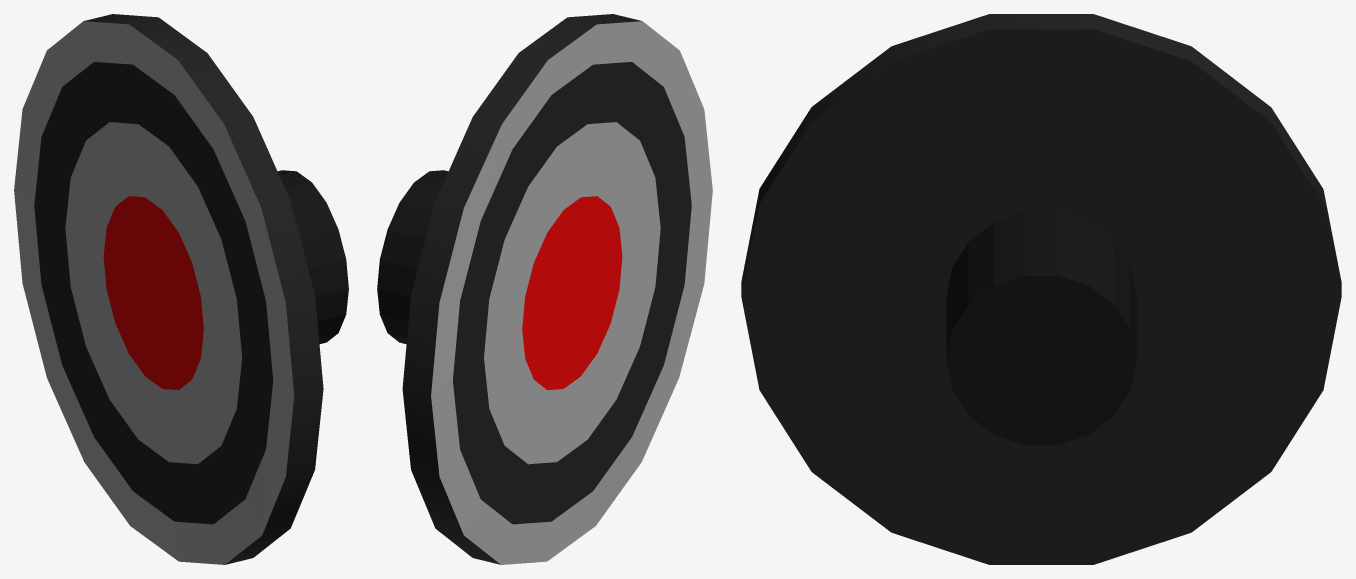
File: maalitaulu.fbx
The picture shows the model from 3 angles, left to right: view 1: azimuth 30°, elevation 25°; view 2: azimuth 150°, elevation 25°; view 3: azimuth 270°, elevation 25°; orthographic projection. The views are drawn at different scales.
Parts seen in each view (by area): view 1: Maalitaulu; view 2: Maalitaulu; view 3: Maalitaulu.
Boxes of the visible parts, bbox=[...] form: Maalitaulu: bbox=[14, 14, 348, 564]; Maalitaulu: bbox=[377, 14, 712, 564]; Maalitaulu: bbox=[741, 14, 1341, 564].
Bounding box in the file's own units: 22.17 × 70.55 × 71.64.
